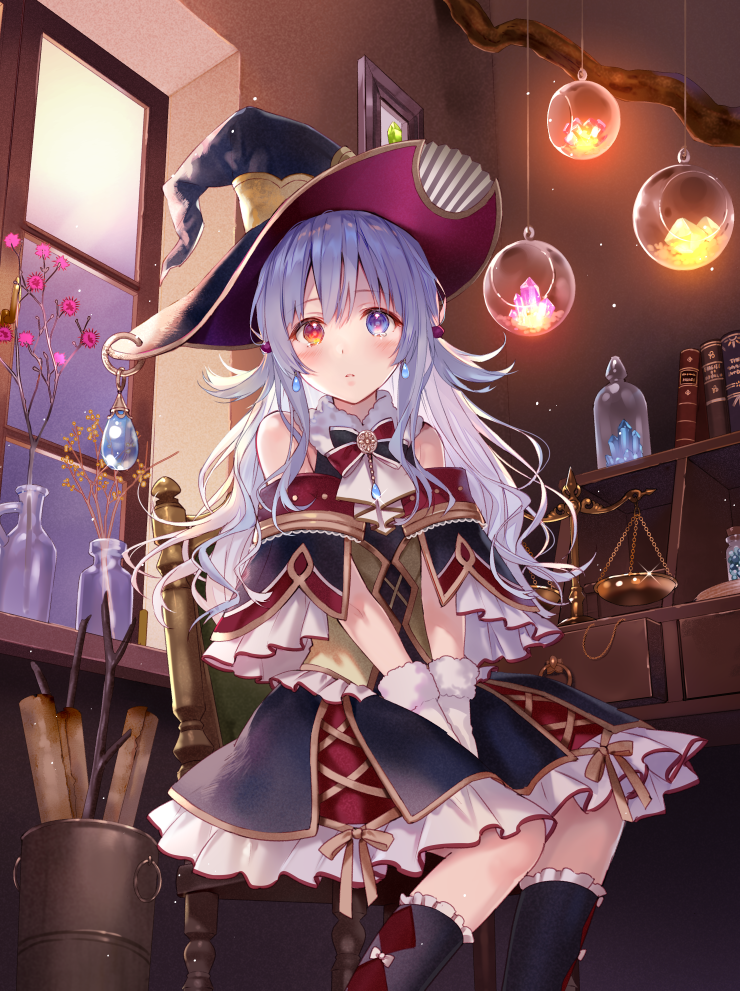纸片人正脸: (234, 187, 458, 405)
